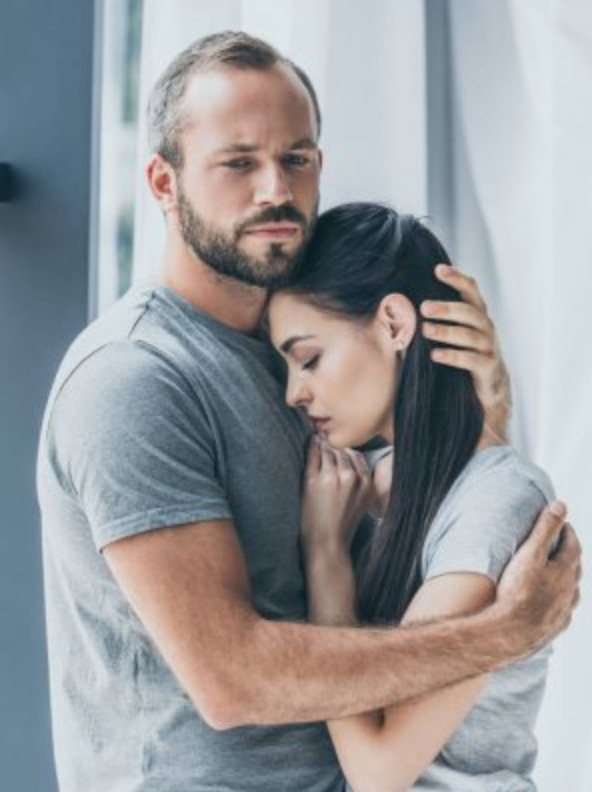Bad: (38, 32, 584, 792)
